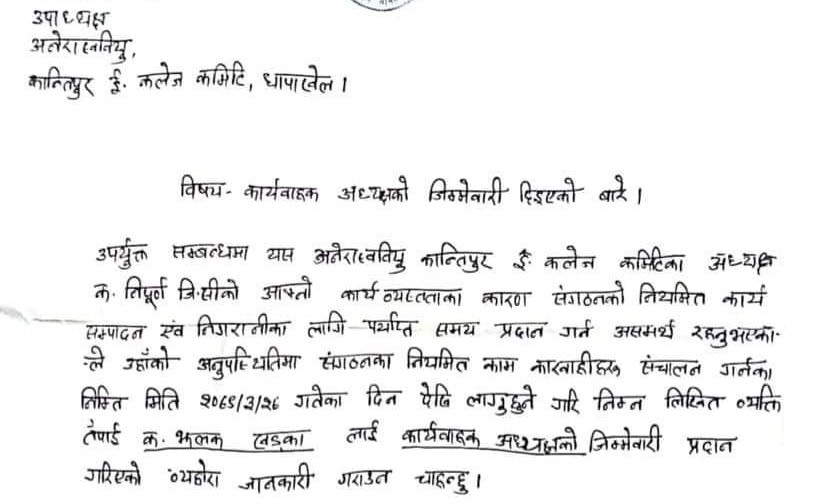text: (192, 344, 304, 380), (342, 278, 466, 306), (27, 29, 131, 62), (528, 347, 624, 382), (422, 169, 507, 208), (261, 60, 341, 101), (311, 241, 412, 273), (335, 170, 412, 208), (418, 239, 494, 277), (493, 424, 579, 456), (21, 65, 96, 101), (241, 174, 322, 206), (194, 312, 292, 338), (704, 241, 778, 275), (585, 424, 666, 455), (164, 238, 256, 265), (515, 170, 582, 207), (237, 463, 313, 495), (315, 345, 396, 375), (690, 320, 778, 347), (396, 420, 483, 447), (616, 245, 690, 276), (463, 385, 537, 416), (27, 3, 118, 28), (547, 282, 628, 310), (411, 463, 475, 498), (635, 280, 711, 309), (402, 346, 475, 375), (170, 170, 231, 204), (164, 456, 224, 490), (91, 238, 152, 271), (542, 242, 603, 275), (191, 60, 248, 95), (121, 271, 169, 312), (244, 424, 311, 453), (176, 273, 242, 302), (359, 310, 422, 340), (636, 352, 705, 379), (607, 317, 677, 342), (717, 353, 775, 383), (135, 60, 187, 93), (82, 459, 143, 487), (259, 271, 313, 302), (662, 385, 726, 411), (289, 382, 348, 410), (734, 383, 781, 417), (172, 425, 227, 454), (721, 282, 773, 312), (334, 465, 394, 491), (683, 430, 740, 457), (591, 386, 647, 413), (121, 344, 172, 373), (77, 382, 129, 410), (80, 319, 146, 341), (431, 314, 480, 343), (476, 287, 532, 312), (300, 310, 351, 337), (595, 170, 630, 209), (490, 319, 549, 341), (141, 383, 180, 415), (417, 379, 455, 411), (80, 419, 123, 447), (548, 386, 584, 418), (261, 242, 303, 268), (363, 381, 403, 408), (479, 351, 522, 375), (345, 418, 381, 446), (558, 315, 596, 341), (511, 243, 535, 278), (198, 391, 237, 412), (103, 66, 126, 101), (83, 344, 108, 375), (159, 316, 186, 340), (90, 278, 113, 303), (260, 393, 286, 414), (141, 428, 161, 450), (242, 391, 256, 416)
